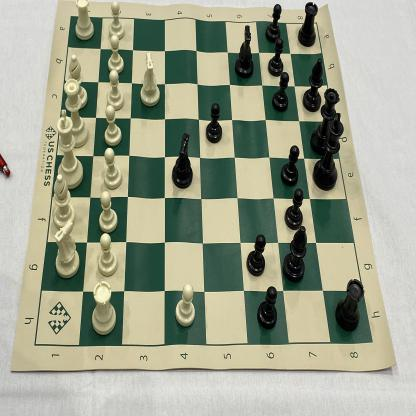bishop: (282, 226, 308, 284), (52, 174, 75, 230), (304, 56, 324, 113), (68, 53, 88, 110)
king: (312, 112, 344, 192), (56, 109, 82, 187)
knight: (52, 220, 80, 279), (171, 130, 195, 190), (233, 24, 256, 78), (140, 51, 160, 111)
pawn: (245, 233, 268, 279), (174, 281, 196, 329), (284, 189, 306, 229), (258, 285, 278, 329), (97, 232, 117, 276), (98, 190, 118, 232), (102, 147, 122, 188), (281, 142, 299, 186), (205, 102, 223, 144), (103, 104, 121, 146), (265, 1, 283, 42), (272, 72, 290, 113), (268, 38, 284, 78), (108, 1, 124, 39), (107, 71, 123, 109), (108, 35, 124, 72)
queen: (310, 86, 341, 155), (62, 77, 88, 147)
rook: (333, 277, 365, 333), (91, 279, 116, 336), (298, 2, 316, 48), (75, 0, 93, 40)
